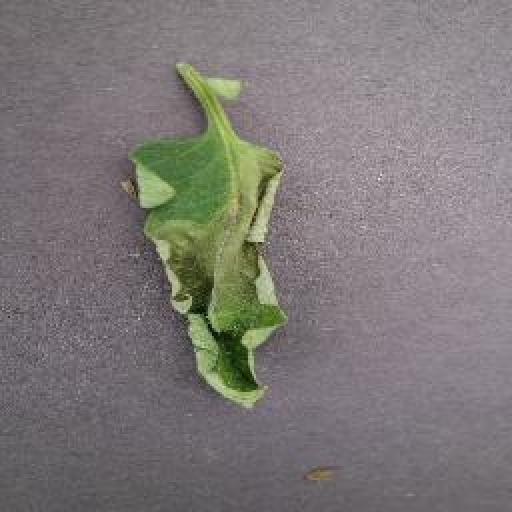disease_tomato: (120, 132, 293, 412)
